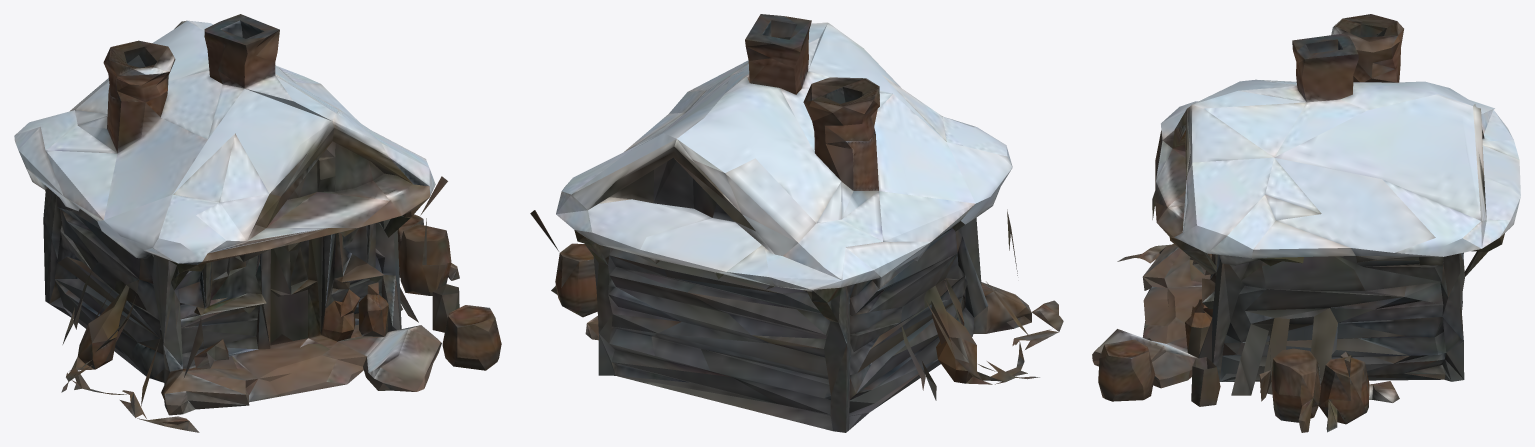
Rendered from house5.glb.
The picture shows the model from 3 angles, left to right: view 1: azimuth 30°, elevation 25°; view 2: azimuth 150°, elevation 25°; view 3: azimuth 270°, elevation 25°; orthographic projection. The views are drawn at different scales.
Bounding box in the file's own units: 1.88 × 1.22 × 1.65.
Materials: 1 (1 with a texture image).
